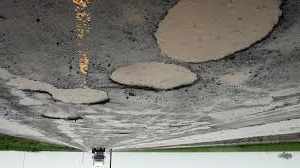pothole: (141, 0, 289, 62), (103, 60, 206, 95), (11, 77, 111, 107), (40, 110, 86, 124)
